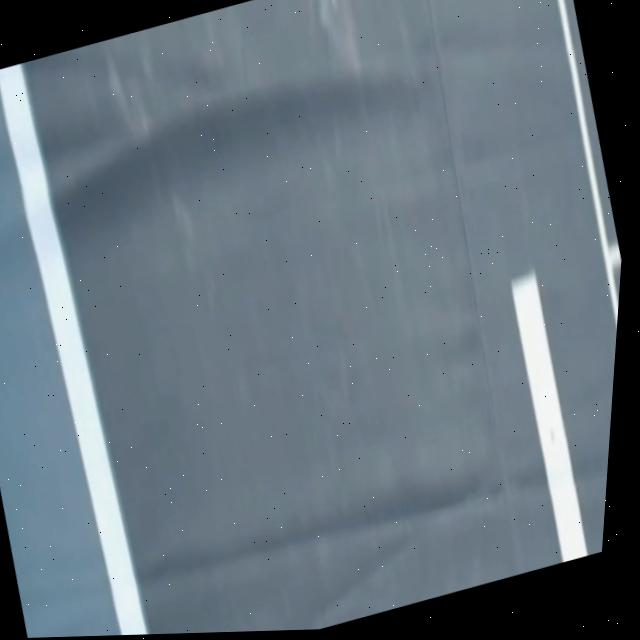center: (511, 274, 587, 562)
left: (0, 63, 148, 635)
